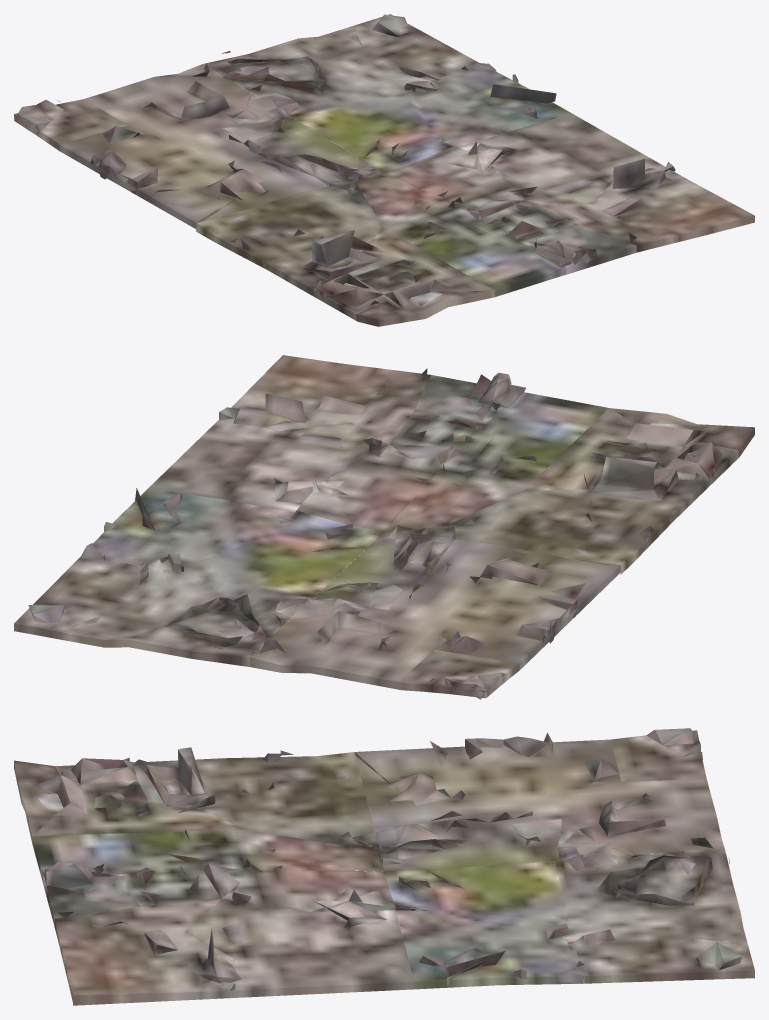
The picture shows the model from 3 angles, top to bottom: view 1: azimuth 30°, elevation 25°; view 2: azimuth 150°, elevation 25°; view 3: azimuth 270°, elevation 25°; orthographic projection. The views are drawn at different scales.
Parts seen in each view (by area): view 1: Mesh_0; view 2: Mesh_0; view 3: Mesh_0.
Boxes of the visible parts, x1,y1,x2,y2 form: Mesh_0: (14, 14, 754, 326); Mesh_0: (14, 355, 754, 699); Mesh_0: (14, 728, 754, 1005).
Size of the model in its own units: 1064 by 98.76 by 1317.
Materials: 1 (1 with a texture image).
